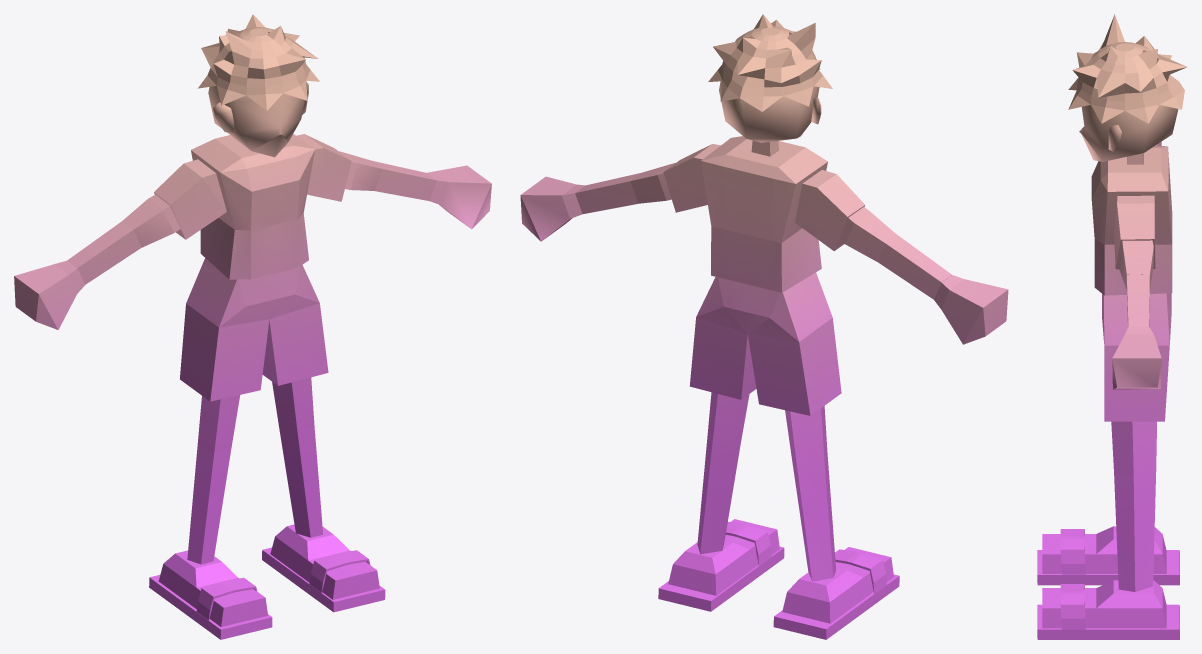
Rendered from Zombie bg1.fbx.
The picture shows the model from 3 angles, left to right: view 1: azimuth 30°, elevation 25°; view 2: azimuth 150°, elevation 25°; view 3: azimuth 270°, elevation 25°; orthographic projection. The views are drawn at different scales.
Parts seen in each view (by area): view 1: Shirt.001, Hair, Right_Legging, Left_Legging, Head, Right_Foot, Left_Foot, Lower_Right_Leg, Shirt_Right_Arm.002, Lower_Left_Leg, Right_Hand, Lower_Right_Pant (+12 smaller); view 2: Shirt.001, Hair, Right_Legging, Left_Legging, Right_Foot, Left_Foot, Lower_Right_Leg, Right_Hand, Lower_Left_Leg, Shirt_Right_Arm.002, Head, Lower_Right_Pant (+12 smaller); view 3: Hair, Shirt.001, Lower_Left_Leg, Left_Foot, Head, Left__Flipflop.002, Left_Legging, Right__Flipflop.001, Left_Hand, Right_Foot, Upper_Left_Leg, Lower_Leftt_Pant (+3 smaller).
Part boxes in pixels (left/top/right/bottom): Shirt.001: left=191, top=134, right=315, bottom=279; Hair: left=198, top=14, right=319, bottom=110; Right_Legging: left=180, top=303, right=269, bottom=401; Left_Legging: left=262, top=303, right=328, bottom=385; Head: left=208, top=81, right=308, bottom=157; Right_Foot: left=158, top=550, right=267, bottom=626; Left_Foot: left=270, top=524, right=379, bottom=599; Lower_Right_Leg: left=187, top=446, right=231, bottom=564; Shirt_Right_Arm.002: left=154, top=159, right=226, bottom=239; Lower_Left_Leg: left=279, top=426, right=322, bottom=537; Right_Hand: left=14, top=260, right=84, bottom=329; Lower_Right_Pant: left=186, top=258, right=268, bottom=327; Shirt.001: left=701, top=136, right=827, bottom=292; Hair: left=708, top=14, right=832, bottom=111; Right_Legging: left=747, top=318, right=841, bottom=415; Left_Legging: left=689, top=317, right=756, bottom=399; Right_Foot: left=782, top=547, right=893, bottom=623; Left_Foot: left=668, top=519, right=779, bottom=595; Lower_Right_Leg: left=791, top=452, right=836, bottom=581; Right_Hand: left=934, top=275, right=1008, bottom=344; Lower_Left_Leg: left=697, top=433, right=740, bottom=554; Shirt_Right_Arm.002: left=795, top=170, right=864, bottom=250; Head: left=719, top=81, right=821, bottom=142; Lower_Right_Pant: left=748, top=272, right=832, bottom=341; Hair: left=1068, top=14, right=1187, bottom=123; Shirt.001: left=1091, top=146, right=1172, bottom=295; Lower_Left_Leg: left=1114, top=469, right=1156, bottom=591; Left_Foot: left=1042, top=580, right=1166, bottom=628; Head: left=1079, top=105, right=1178, bottom=161; Left__Flipflop.002: left=1037, top=584, right=1179, bottom=639; Left_Legging: left=1104, top=345, right=1169, bottom=421; Right__Flipflop.001: left=1037, top=529, right=1179, bottom=585; Left_Hand: left=1112, top=326, right=1161, bottom=389; Right_Foot: left=1042, top=526, right=1166, bottom=573; Upper_Left_Leg: left=1111, top=421, right=1156, bottom=476; Lower_Leftt_Pant: left=1102, top=293, right=1171, bottom=345.
Bounding box in the file's own units: 156 × 188 × 45.13.
Materials: 1 (1 with a texture image).
